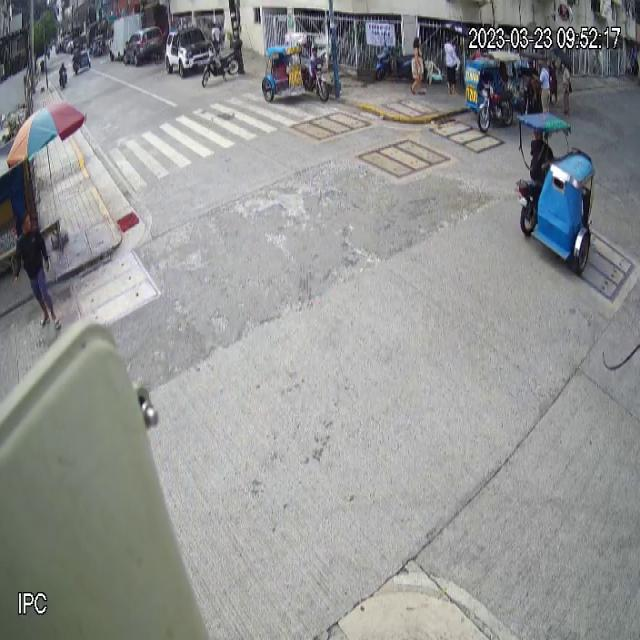Tricycle: (516, 110, 596, 276), (261, 31, 329, 103), (464, 50, 520, 132)
